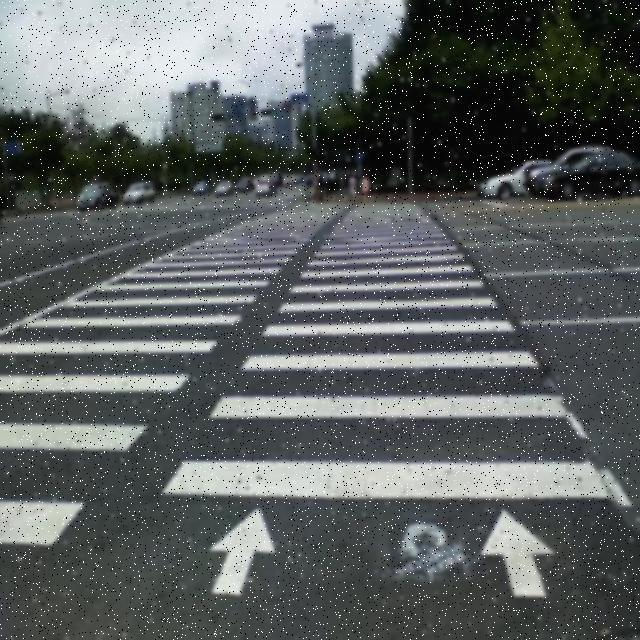Pedestrian crosswalk: (0, 195, 640, 557)
